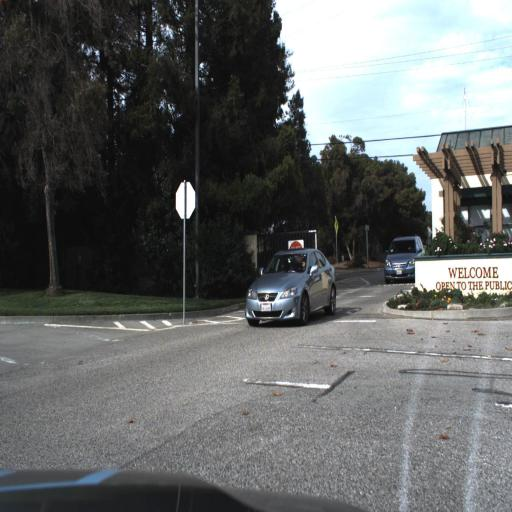car: (240, 241, 336, 331), (383, 230, 428, 286)
